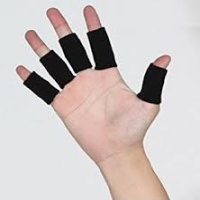ring: (21, 31, 73, 86)
